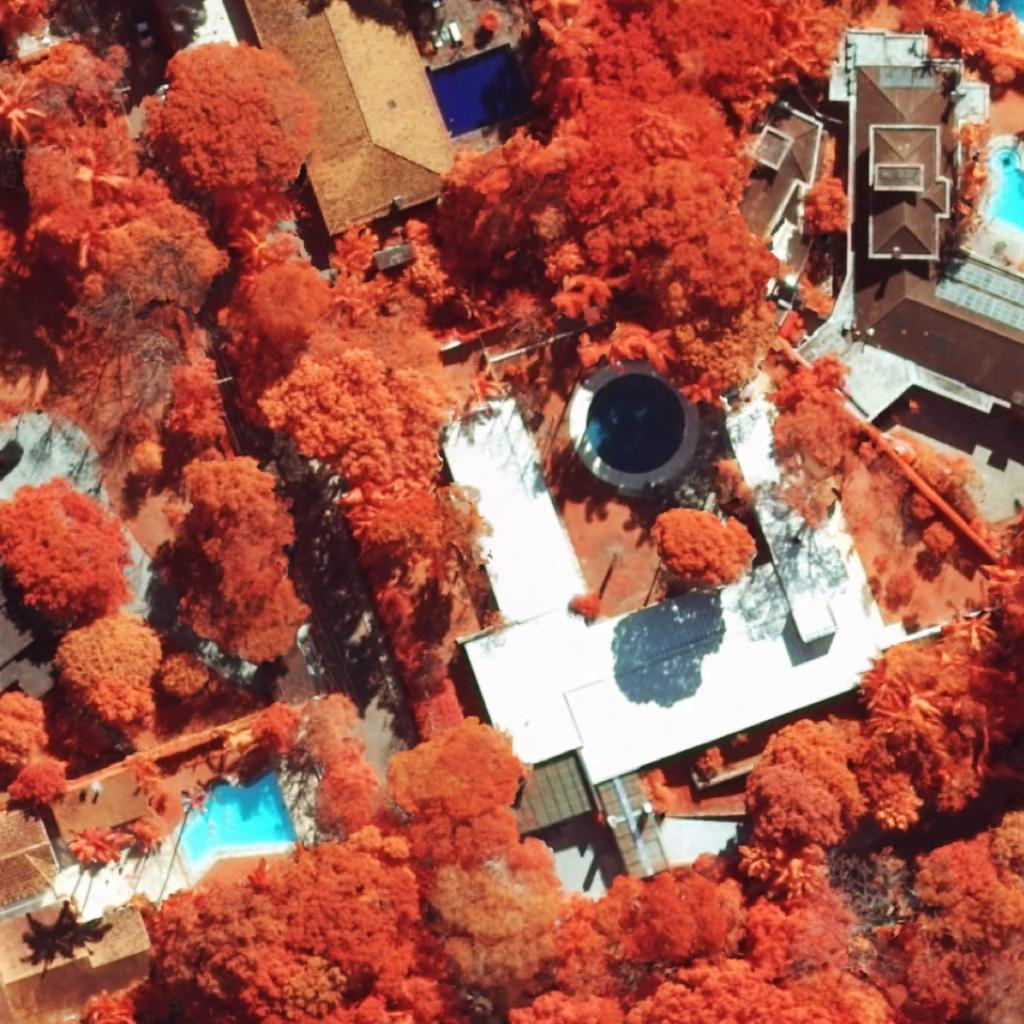pool: (182, 770, 298, 867), (585, 373, 686, 476), (426, 43, 534, 139), (986, 145, 1024, 231)
